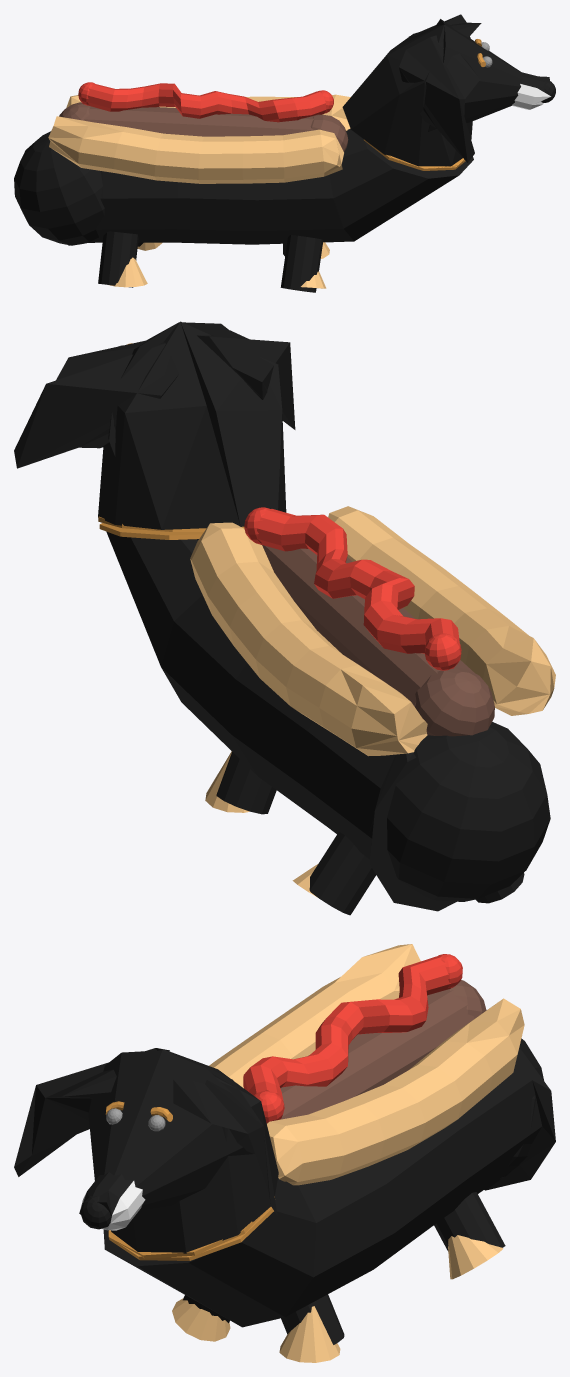
3 renders of one model, top to bottom at view 1: azimuth 30°, elevation 25°; view 2: azimuth 150°, elevation 25°; view 3: azimuth 270°, elevation 25°, orthographic. The views are drawn at different scales.
Visible parts, largest first — view 1: group_1069234405, group_1711478423, group_989155438, mesh_1099453498, group_1231897299, group_1790225551, mesh_593574154, mesh_1315803621, mesh_1358197379, mesh_890112721, mesh_469356836, group_225552426 (+4 smaller); view 2: group_1069234405, group_989155438, mesh_1099453498, group_225552426, group_1711478423, group_860534371, group_1231897299, mesh_593574154, mesh_716554223, group_1790225551, mesh_1663603728, mesh_671571919 (+3 smaller); view 3: group_1069234405, group_225552426, mesh_1315803621, group_989155438, group_1231897299, group_1711478423, mesh_593574154, group_1790225551, group_860534371, mesh_1663603728, mesh_469356836, mesh_1759385176 (+9 smaller).
Boxes of the visible parts, left/top/right/bottom form: group_1069234405: left=68, top=128, right=473, bottom=245; group_1711478423: left=48, top=116, right=343, bottom=183; group_989155438: left=342, top=24, right=472, bottom=166; mesh_1099453498: left=14, top=131, right=104, bottom=245; group_1231897299: left=80, top=83, right=326, bottom=122; group_1790225551: left=399, top=35, right=479, bottom=162; mesh_593574154: left=84, top=106, right=319, bottom=136; mesh_1315803621: left=428, top=19, right=523, bottom=131; mesh_1358197379: left=280, top=235, right=323, bottom=292; mesh_890112721: left=98, top=231, right=138, bottom=287; mesh_469356836: left=512, top=72, right=551, bottom=109; group_225552426: left=66, top=94, right=350, bottom=130; group_1069234405: left=106, top=531, right=456, bottom=911; group_989155438: left=98, top=321, right=286, bottom=529; mesh_1099453498: left=369, top=721, right=550, bottom=901; group_225552426: left=190, top=522, right=427, bottom=756; group_1711478423: left=328, top=506, right=555, bottom=715; group_860534371: left=14, top=340, right=178, bottom=468; group_1231897299: left=257, top=509, right=460, bottom=668; mesh_593574154: left=263, top=545, right=474, bottom=706; mesh_716554223: left=415, top=667, right=494, bottom=736; group_1790225551: left=197, top=330, right=295, bottom=429; mesh_1663603728: left=309, top=832, right=375, bottom=915; mesh_671571919: left=216, top=752, right=276, bottom=814; group_1069234405: left=103, top=1048, right=555, bottom=1327; group_225552426: left=267, top=998, right=524, bottom=1185; mesh_1315803621: left=88, top=1050, right=253, bottom=1210; group_989155438: left=111, top=1049, right=278, bottom=1253; group_1231897299: left=243, top=956, right=450, bottom=1102; group_1711478423: left=209, top=944, right=420, bottom=1088; mesh_593574154: left=280, top=990, right=474, bottom=1119; group_1790225551: left=14, top=1048, right=169, bottom=1176; group_860534371: left=173, top=1066, right=277, bottom=1215; mesh_1663603728: left=434, top=1192, right=505, bottom=1251; mesh_469356836: left=79, top=1172, right=145, bottom=1230; mesh_1759385176: left=279, top=1306, right=340, bottom=1362.
Size of the model in its own units: 80.2 by 46.62 by 60.91.
